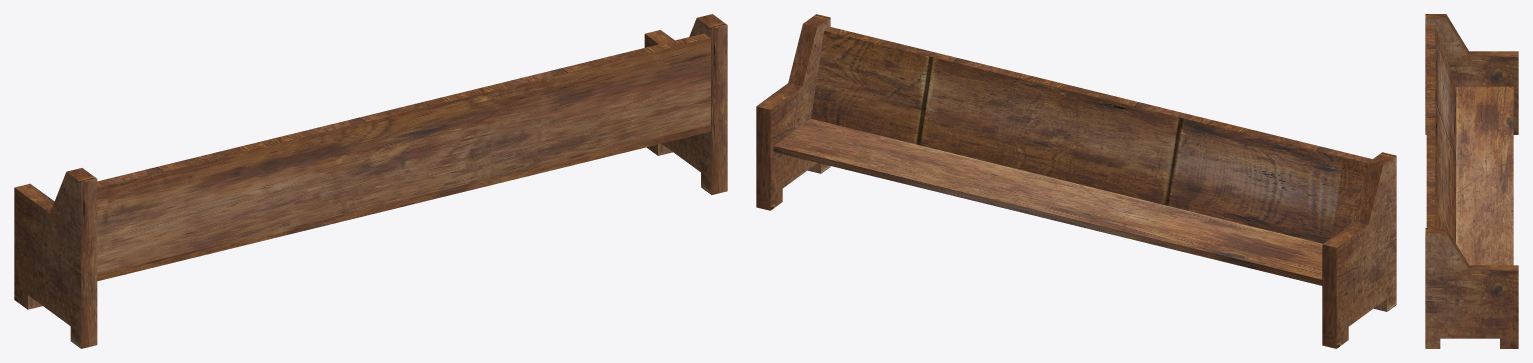
File: ChurchPew.fbx
The picture shows the model from 3 angles, left to right: view 1: azimuth 30°, elevation 25°; view 2: azimuth 150°, elevation 25°; view 3: azimuth 270°, elevation 25°; orthographic projection. The views are drawn at different scales.
Parts seen in each view (by area): view 1: PewArmRight1; view 2: PewArmRight1; view 3: PewArmRight1.
Part boxes in pixels (left/top/right/bottom): PewArmRight1: left=14, top=14, right=727, bottom=348; PewArmRight1: left=756, top=14, right=1396, bottom=348; PewArmRight1: left=1425, top=14, right=1518, bottom=348.
Bounding box in the file's own units: 18.5 × 4.55 × 3.32.
